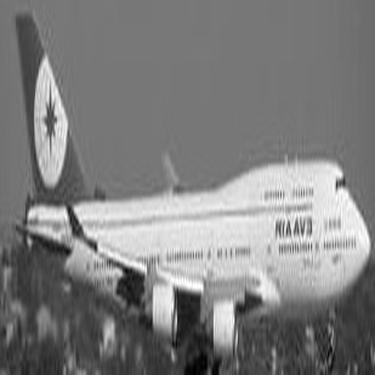airplane: (4, 6, 367, 369)
